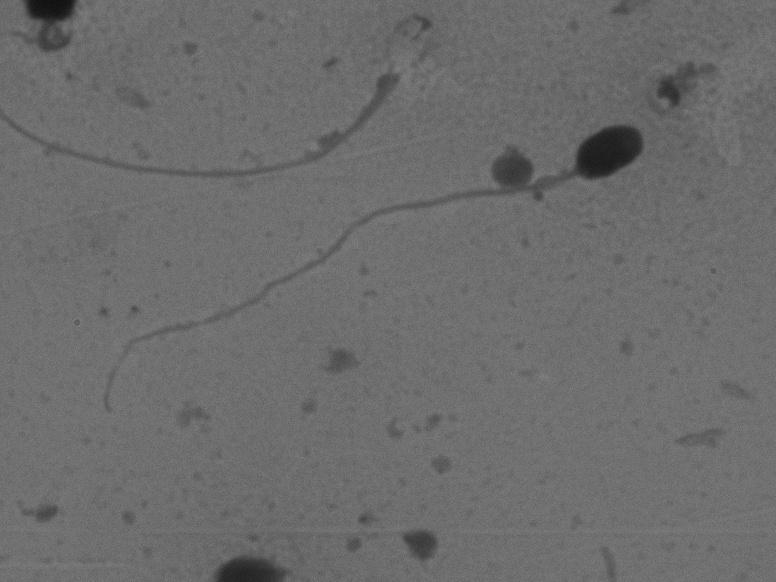Abnormal: (74, 100, 664, 431), (5, 8, 456, 190)
